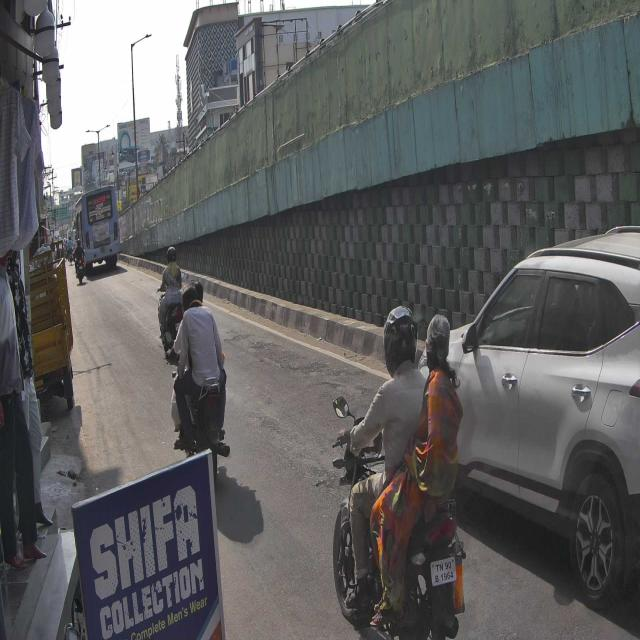double_rider: (329, 299, 468, 640), (164, 276, 234, 484)
